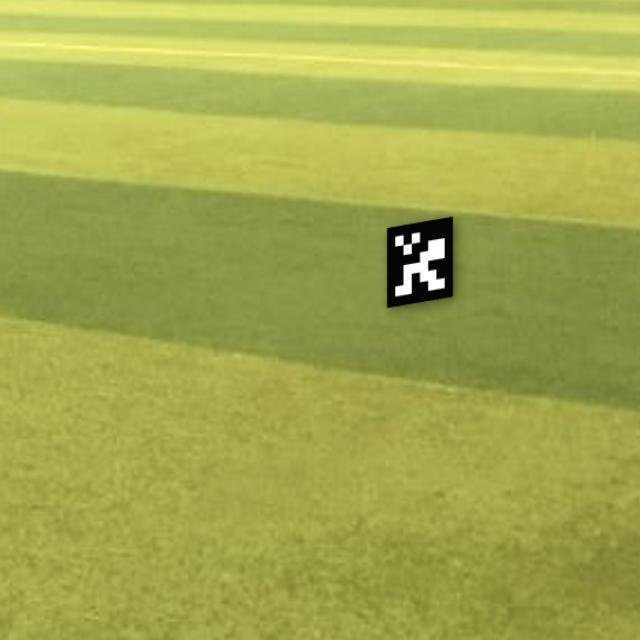marker: (378, 208, 464, 318)
